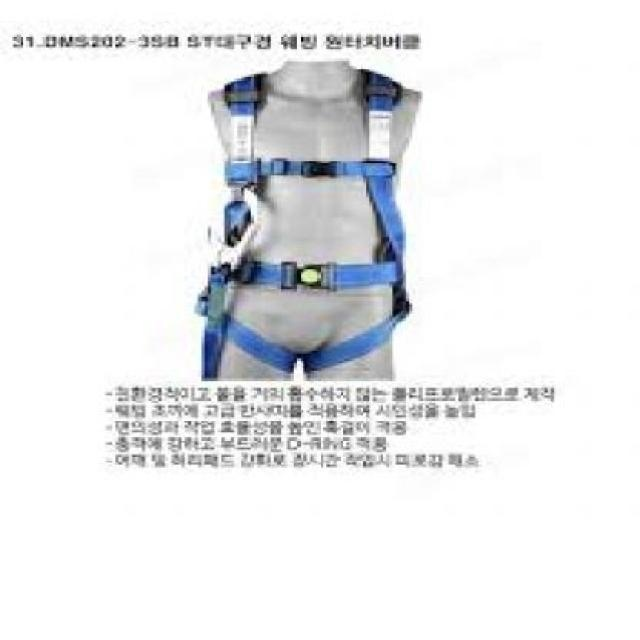Arnes_seguridad: (196, 74, 416, 374)
